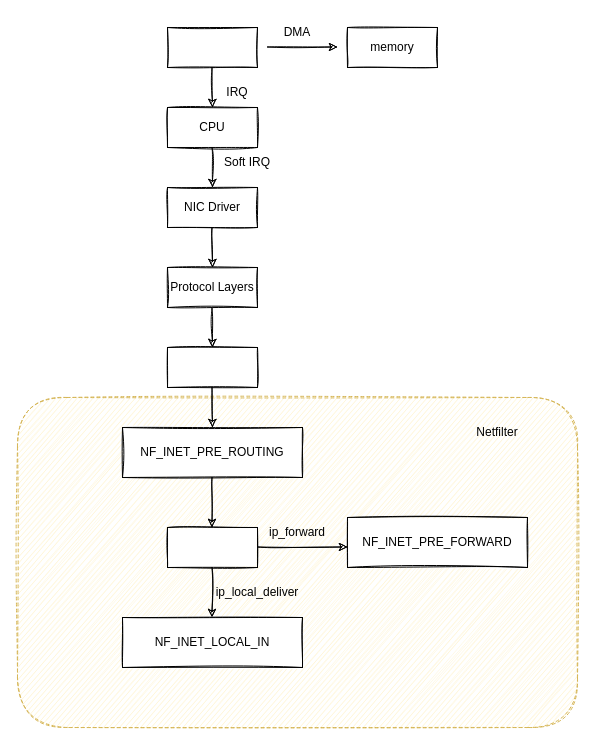
Some shapes in this 595 by 745 pixel diagram are drawn without their labels. Here are the shapes that lost their labels. From the top down, the centre of each, then its label:
At [212,47]: "packet".
At [212,367]: "ip_rcv".
At [212,547]: "routing".
